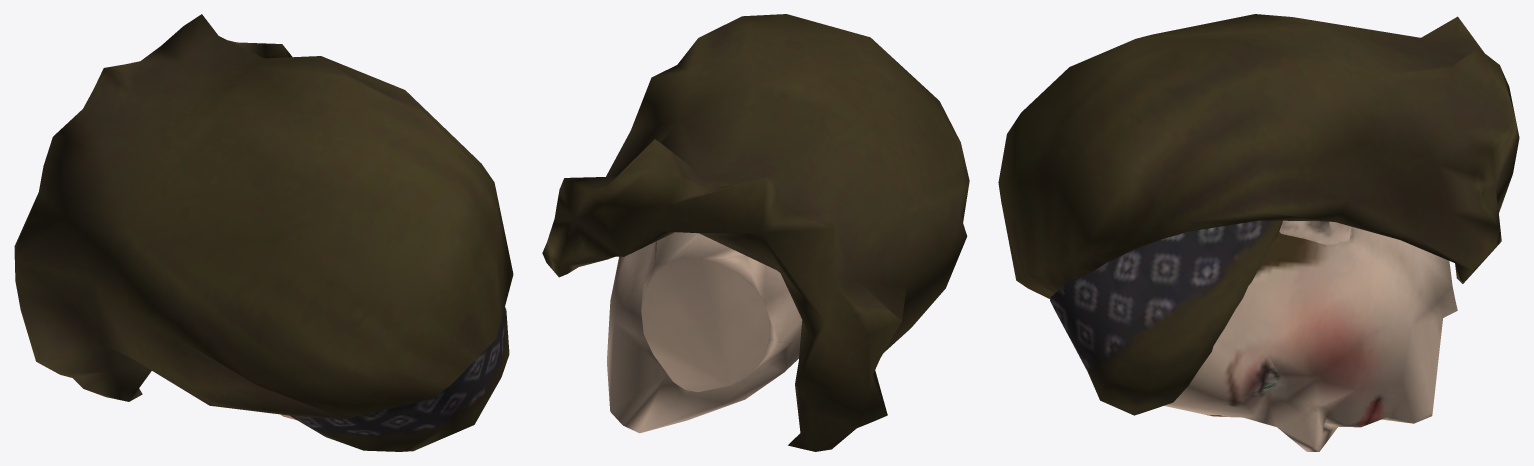
Rendered from dest_nt_nuked_female_02_head_LOD2.obj.
The picture shows the model from 3 angles, left to right: view 1: azimuth 30°, elevation 25°; view 2: azimuth 150°, elevation 25°; view 3: azimuth 270°, elevation 25°; orthographic projection. The views are drawn at different scales.
Parts seen in each view (by area): view 1: mtl_nt_2020_manne_fem01_hair1; view 2: mtl_nt_2020_manne_fem01_hair1, mtl_nt_2020_manne_fem01_head1; view 3: mtl_nt_2020_manne_fem01_hair1, mtl_nt_2020_manne_fem01_head1.
Boxes of the visible parts, left/top/right/bottom form: mtl_nt_2020_manne_fem01_hair1: left=14, top=14, right=513, bottom=451; mtl_nt_2020_manne_fem01_hair1: left=542, top=14, right=969, bottom=451; mtl_nt_2020_manne_fem01_head1: left=607, top=232, right=802, bottom=433; mtl_nt_2020_manne_fem01_hair1: left=998, top=14, right=1519, bottom=415; mtl_nt_2020_manne_fem01_head1: left=1164, top=220, right=1457, bottom=451.
Bounding box in the file's own units: 27.87 × 26.05 × 32.5.
